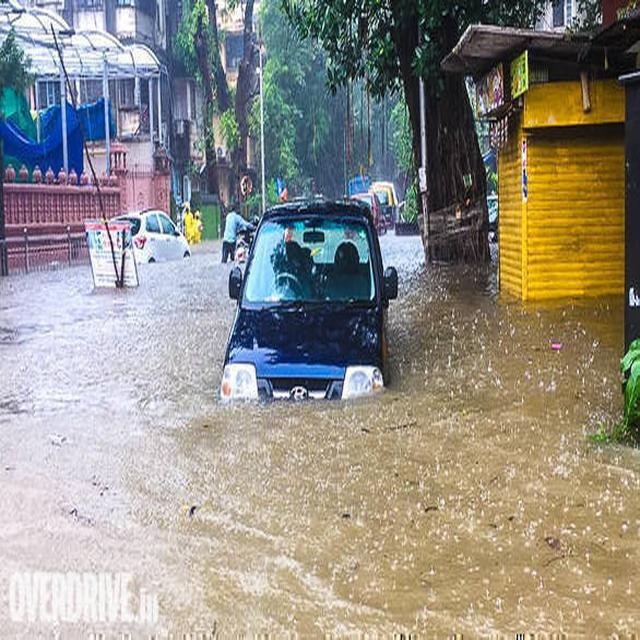Car-RiskLevel3: (214, 189, 406, 405)
